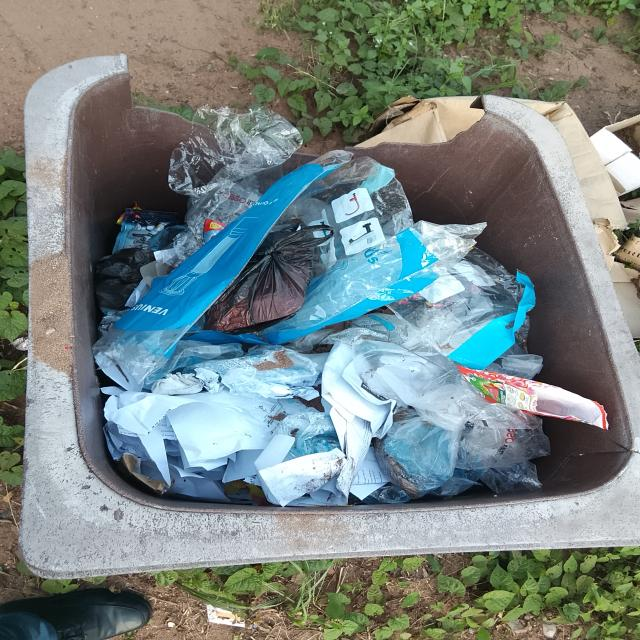full: (21, 89, 640, 560)
